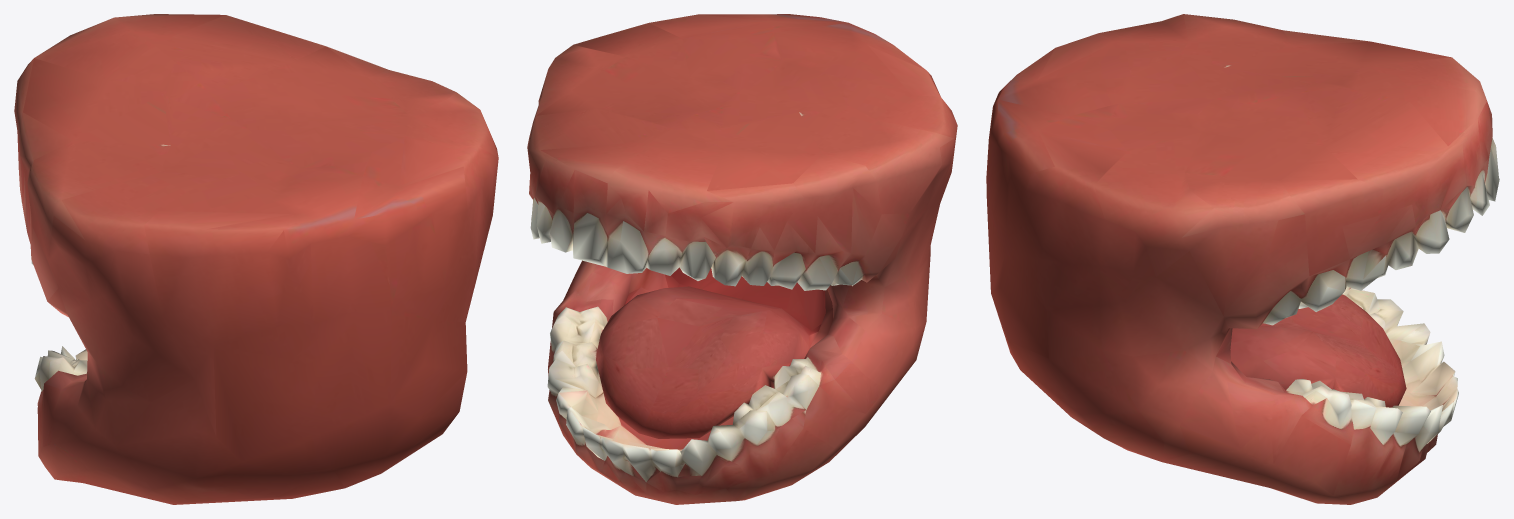
Rendered from mouth.obj.
3 views of the same model, side by side, from view 1: azimuth 30°, elevation 25°; view 2: azimuth 150°, elevation 25°; view 3: azimuth 270°, elevation 25° (orthographic). The views are drawn at different scales.
Visible parts, largest first — view 1: Mesh_0; view 2: Mesh_0; view 3: Mesh_0.
Part boxes in pixels (bbox=[...]): Mesh_0: bbox=[14, 14, 498, 504]; Mesh_0: bbox=[527, 14, 957, 504]; Mesh_0: bbox=[986, 14, 1499, 504].
Size of the model in its own units: 1.74 by 1.58 by 1.9.
Materials: 1 (1 with a texture image).
